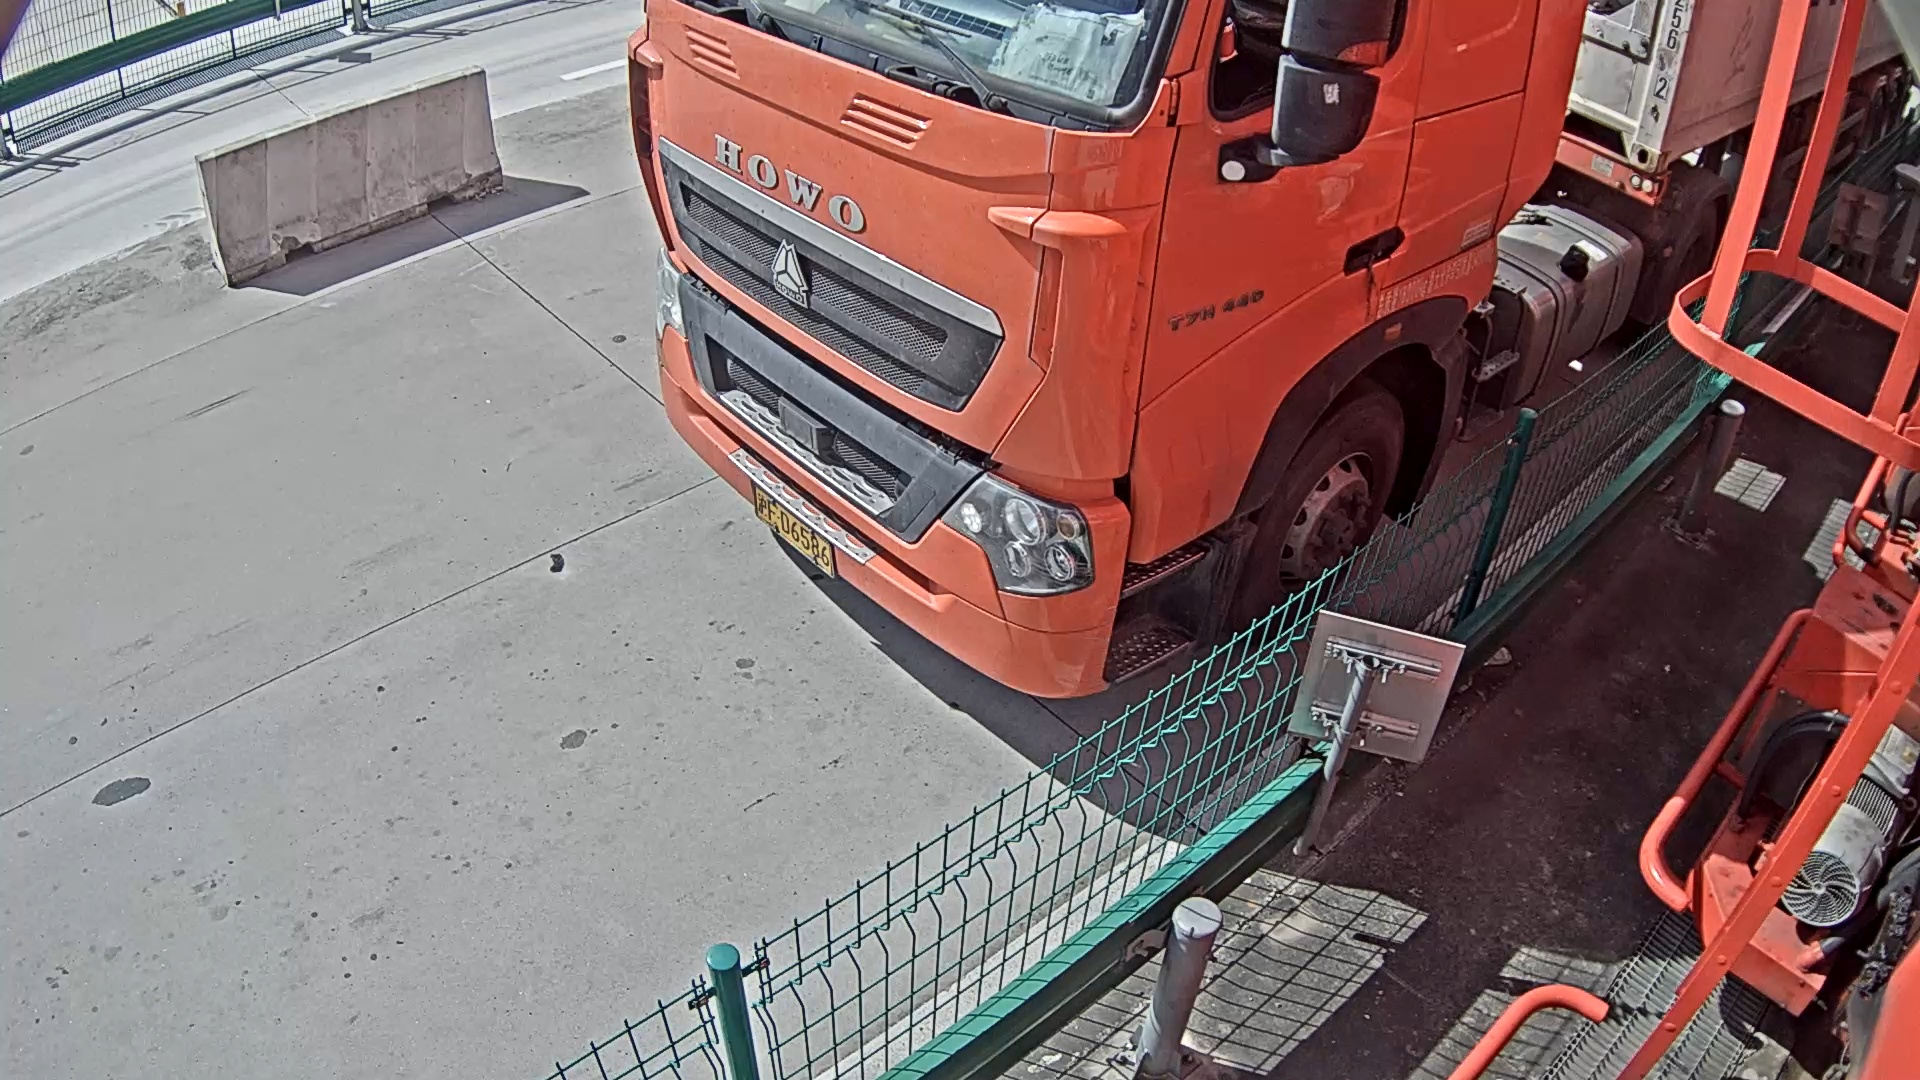head: (634, 1, 1601, 707)
plate: (754, 484, 835, 577)
